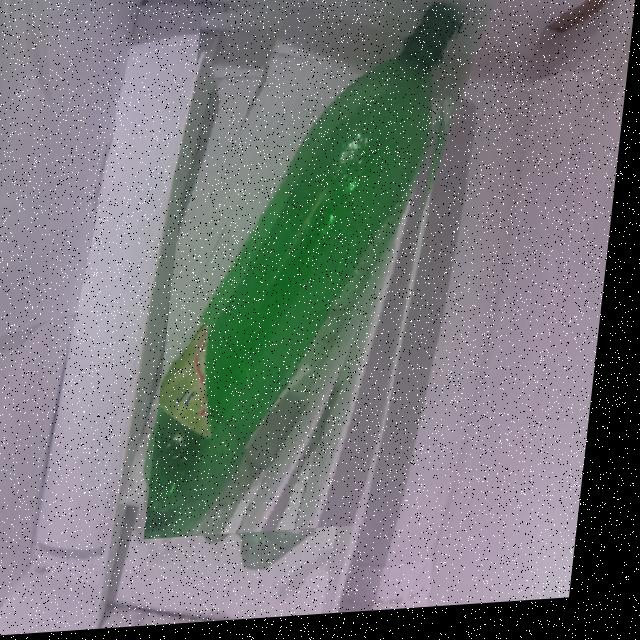plasticbottle: (157, 0, 470, 542)
